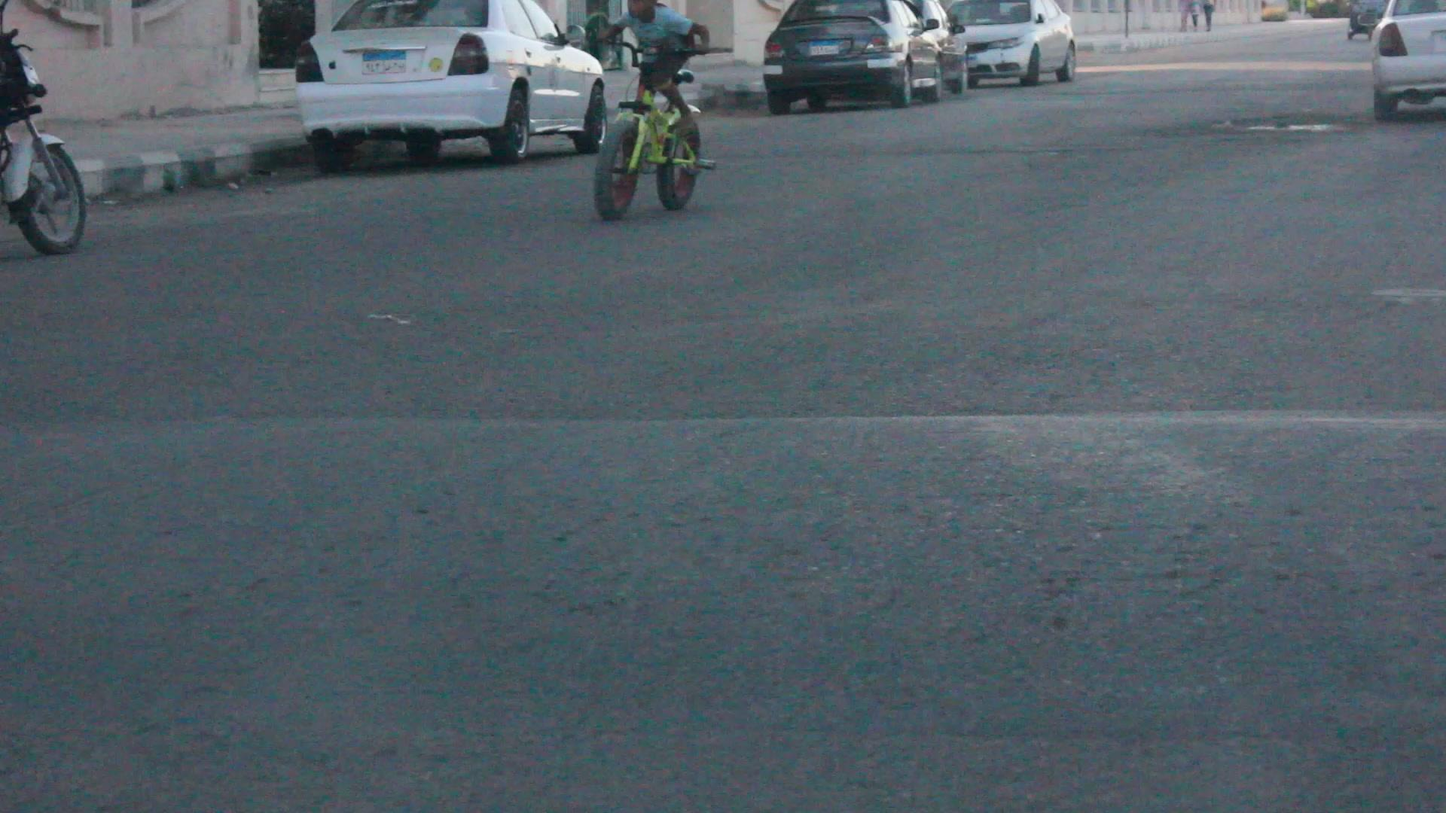Bump: (0, 419, 1445, 742), (1184, 110, 1359, 136)
